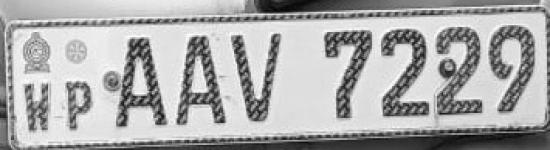2: (377, 24, 433, 120), (434, 24, 485, 119)
9: (486, 20, 538, 117)
A: (106, 30, 170, 133), (169, 30, 228, 134)
P: (64, 80, 94, 132)
V: (226, 28, 288, 132), (320, 25, 376, 124)
W: (21, 79, 57, 136)
